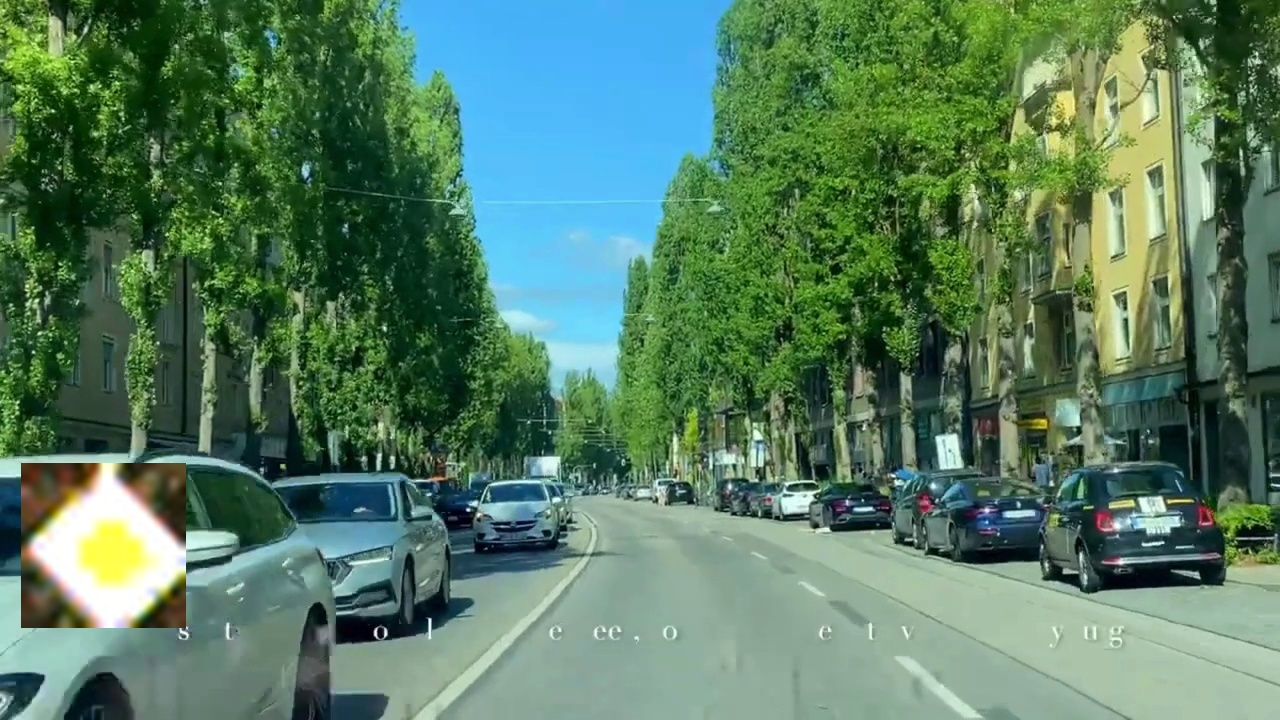Priority road: (21, 463, 186, 628)
